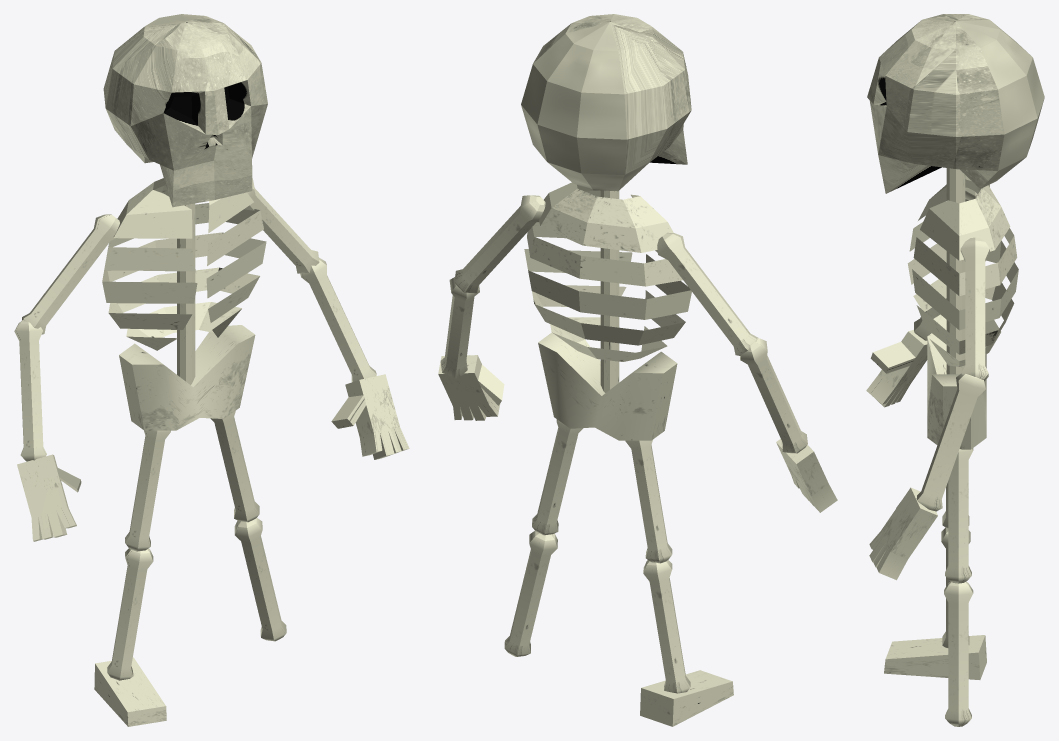
File: Skele.fbx
The picture shows the model from 3 angles, left to right: view 1: azimuth 30°, elevation 25°; view 2: azimuth 150°, elevation 25°; view 3: azimuth 270°, elevation 25°; orthographic projection. The views are drawn at different scales.
Parts seen in each view (by area): view 1: pSphere1, pSphere2, pCube1, pCube7, pCube6, pCylinder6, pCube2, pCylinder7, pCylinder4, pCylinder5, pCylinder9, pCylinder2 (+3 smaller); view 2: pSphere1, pSphere2, pCube1, pCylinder6, pCube2, pCylinder4, pCylinder5, pCylinder8, pCube7, pCylinder7, pCylinder2, pCylinder3 (+3 smaller); view 3: pSphere1, pSphere2, pCylinder9, pCube1, pCube7, pCylinder5, pCylinder8, pCube2, pCube6, pCylinder3, pCylinder1, pCylinder4 (+1 smaller).
Part boxes in pixels (left/top/right/bottom): pSphere1: left=103, top=14, right=267, bottom=207; pSphere2: left=102, top=178, right=266, bottom=350; pCube1: left=119, top=325, right=255, bottom=430; pCube7: left=331, top=374, right=409, bottom=459; pCube6: left=17, top=454, right=81, bottom=541; pCylinder6: left=22, top=214, right=119, bottom=334; pCube2: left=94, top=657, right=166, bottom=726; pCylinder7: left=14, top=320, right=46, bottom=461; pCylinder4: left=107, top=548, right=153, bottom=680; pCylinder5: left=234, top=518, right=286, bottom=641; pCylinder9: left=300, top=257, right=376, bottom=382; pCylinder2: left=125, top=430, right=170, bottom=551; pSphere1: left=521, top=14, right=691, bottom=191; pSphere2: left=524, top=182, right=691, bottom=361; pCube1: left=538, top=332, right=677, bottom=440; pCylinder6: left=657, top=232, right=758, bottom=355; pCube2: left=640, top=670, right=733, bottom=726; pCylinder4: left=643, top=560, right=690, bottom=693; pCylinder5: left=504, top=531, right=557, bottom=656; pCylinder8: left=454, top=195, right=545, bottom=293; pCube7: left=438, top=355, right=504, bottom=420; pCylinder7: left=740, top=338, right=807, bottom=453; pCylinder2: left=625, top=440, right=672, bottom=563; pCylinder3: left=532, top=419, right=583, bottom=535; pSphere1: left=867, top=14, right=1044, bottom=193; pSphere2: left=907, top=175, right=1018, bottom=366; pCylinder9: left=916, top=373, right=985, bottom=511; pCube1: left=927, top=333, right=986, bottom=449; pCube7: left=869, top=487, right=937, bottom=580; pCylinder5: left=944, top=581, right=973, bottom=726; pCylinder8: left=960, top=237, right=989, bottom=381; pCube2: left=884, top=635, right=986, bottom=679; pCube6: left=866, top=329, right=927, bottom=407; pCylinder3: left=945, top=448, right=973, bottom=583; pCylinder1: left=946, top=168, right=965, bottom=374; pCylinder4: left=941, top=527, right=970, bottom=647.
Size of the model in its own units: 4.55 by 7.67 by 1.83.
